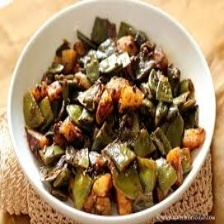sabzi: (19, 13, 207, 219)
